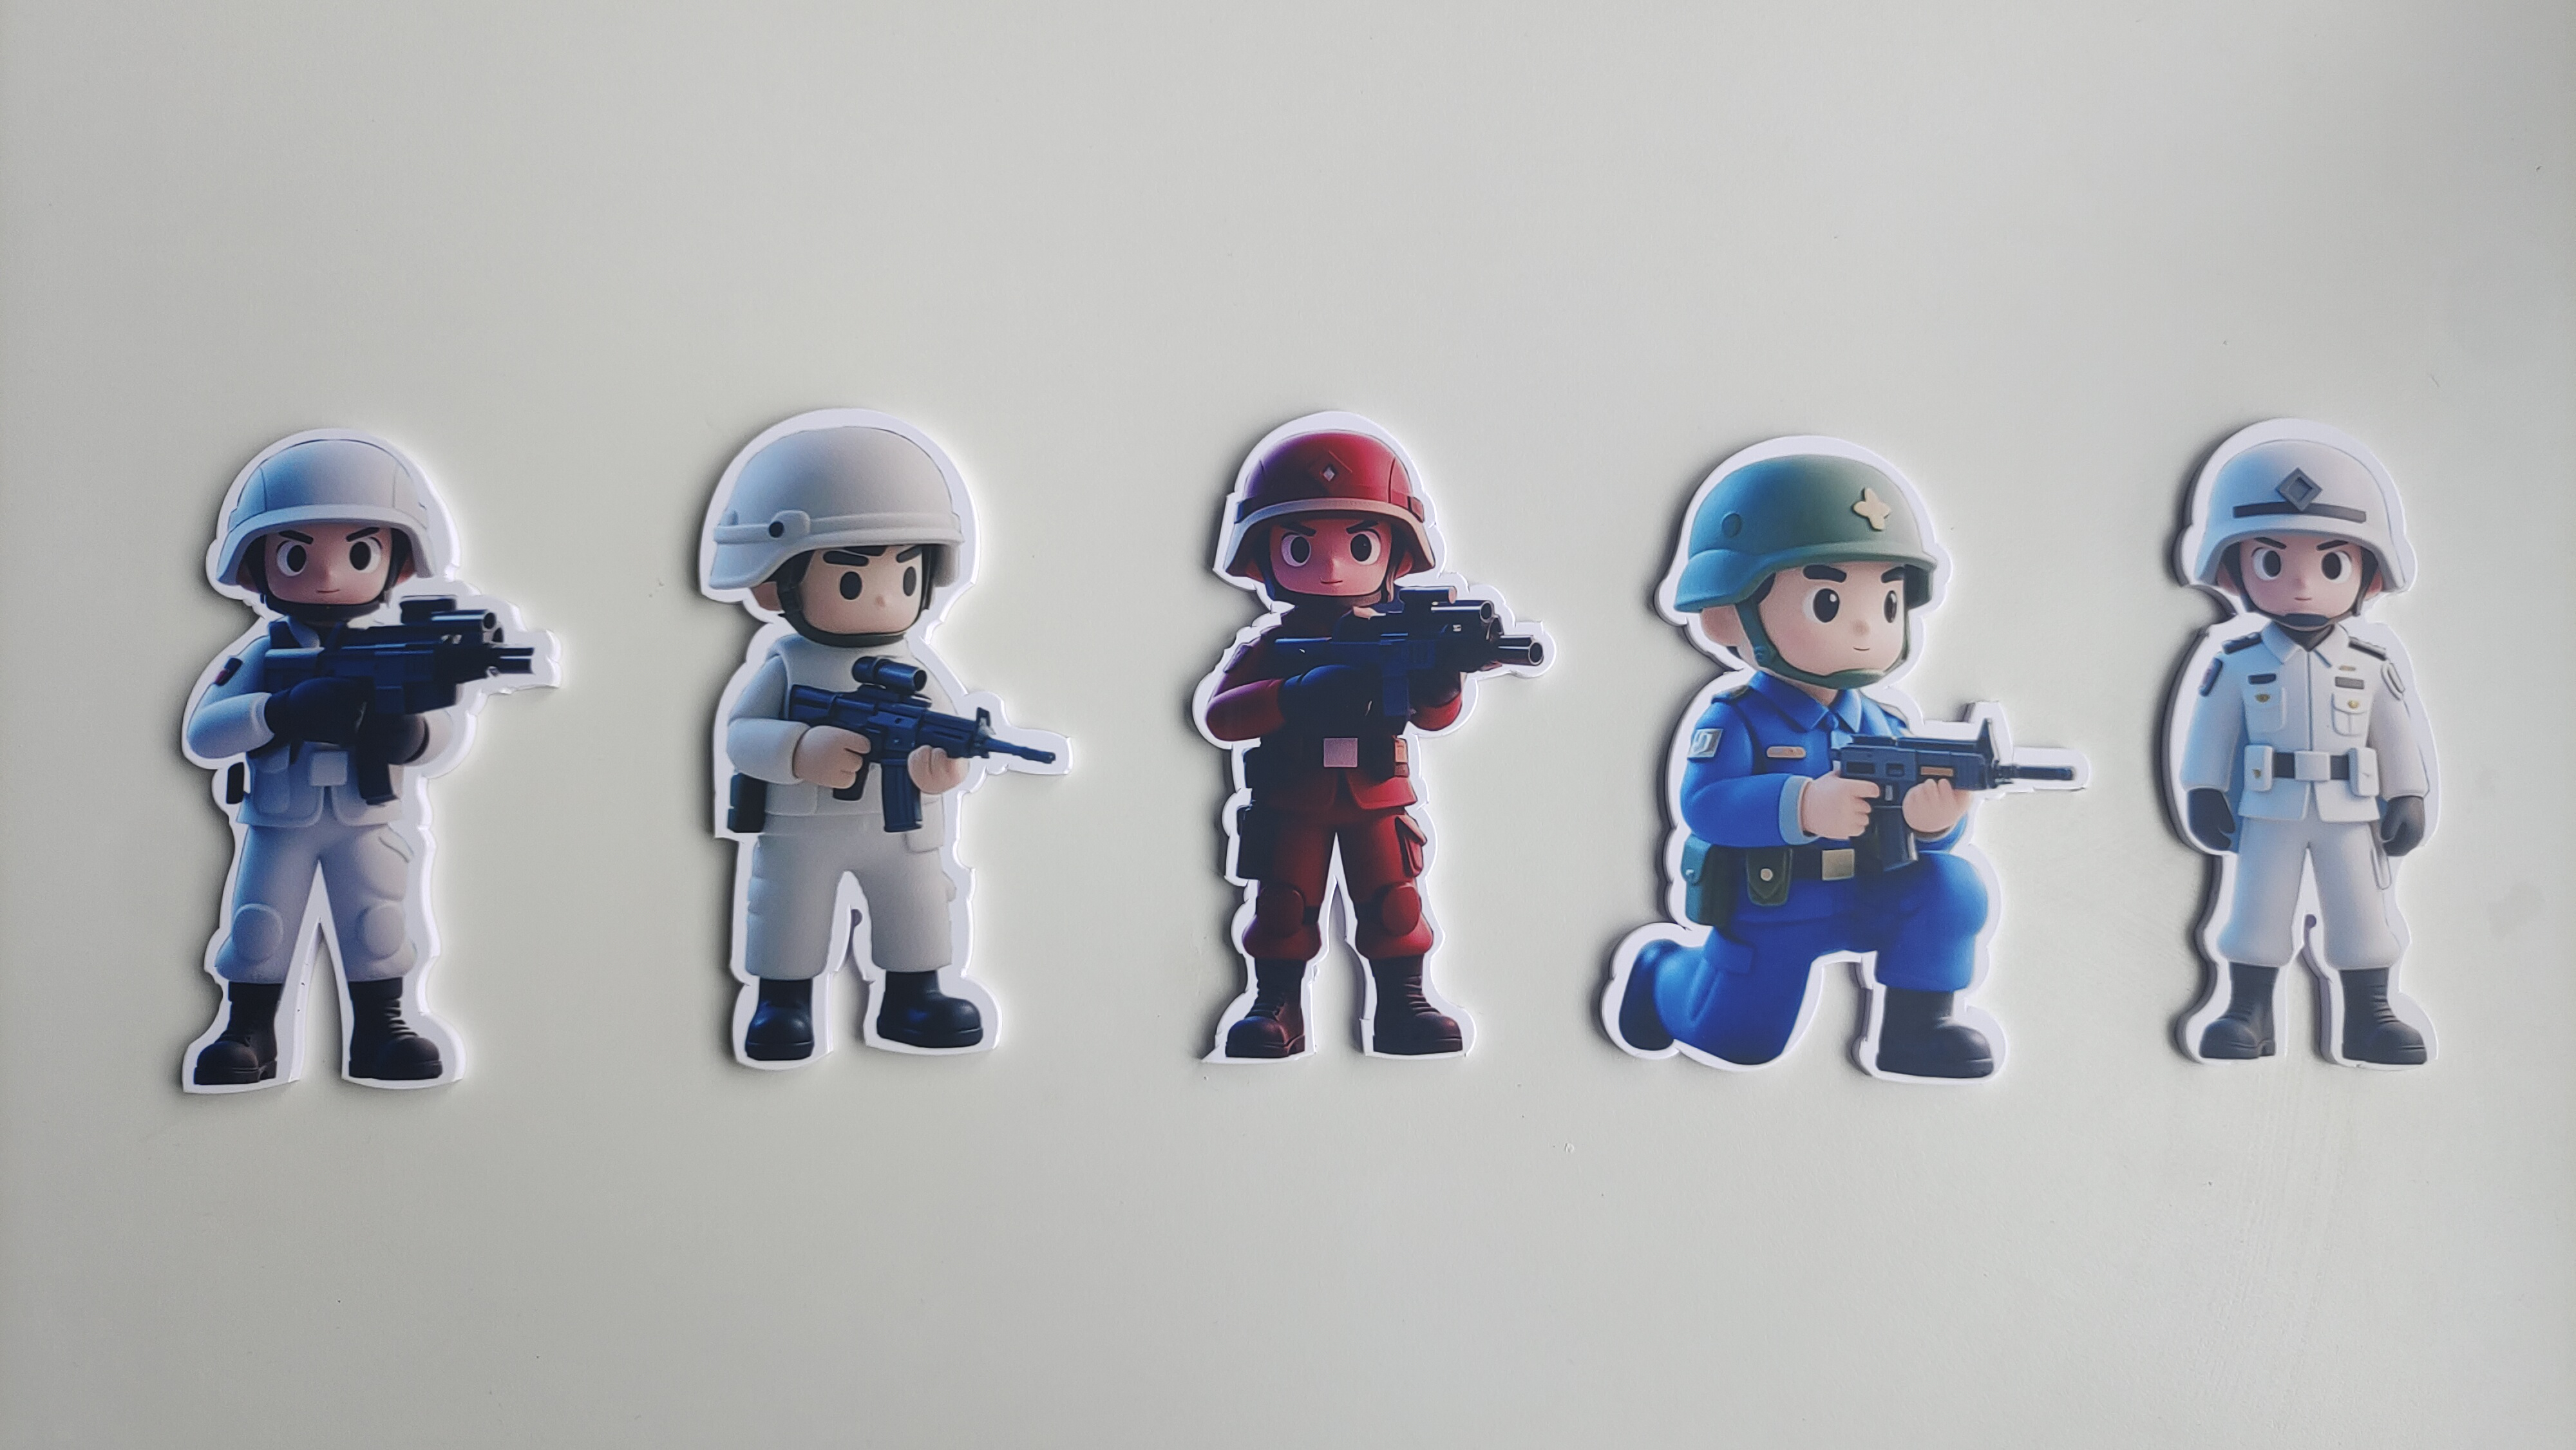enemy1: (1171, 628, 1479, 1077)
enemy2: (1589, 690, 2022, 1096)
hostage: (157, 621, 474, 1110), (695, 640, 1024, 1065), (2150, 631, 2450, 1084)
